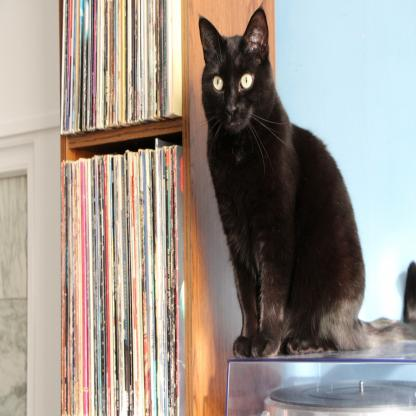book: (57, 12, 199, 412)
